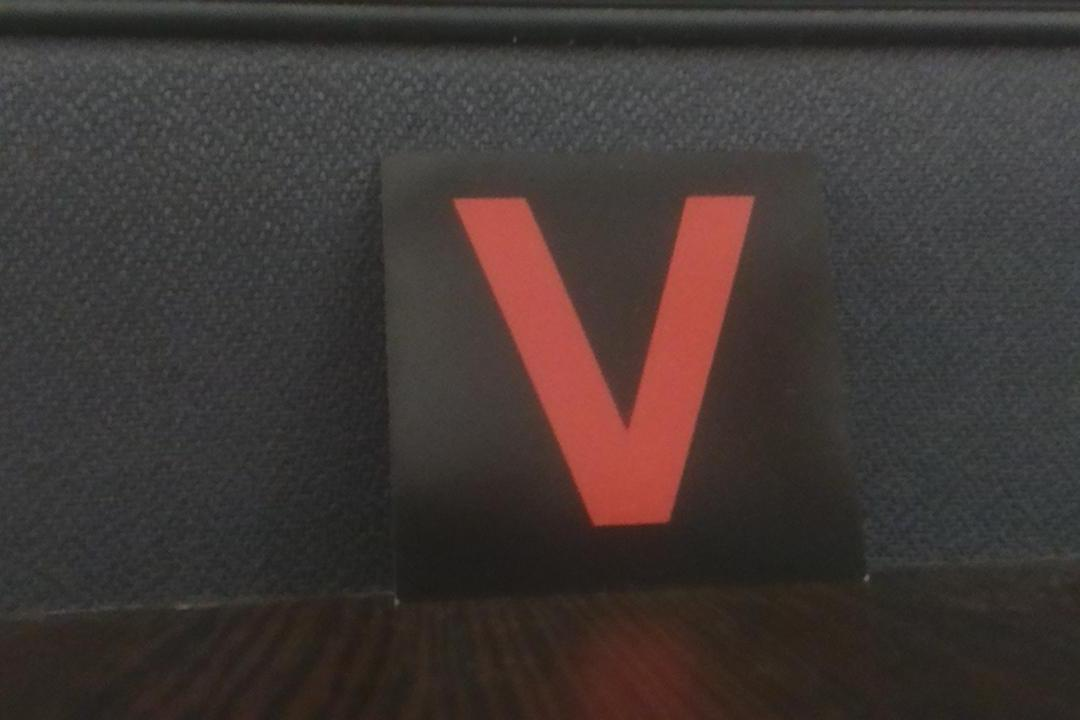alphabet_v: (381, 150, 872, 582)
